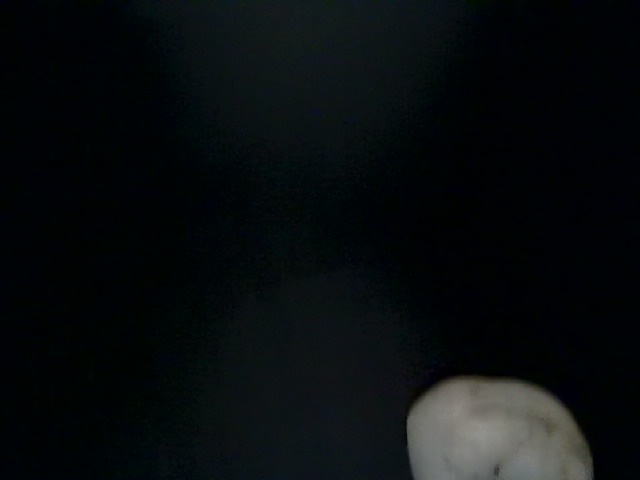QTLJ: (394, 381, 590, 480)
